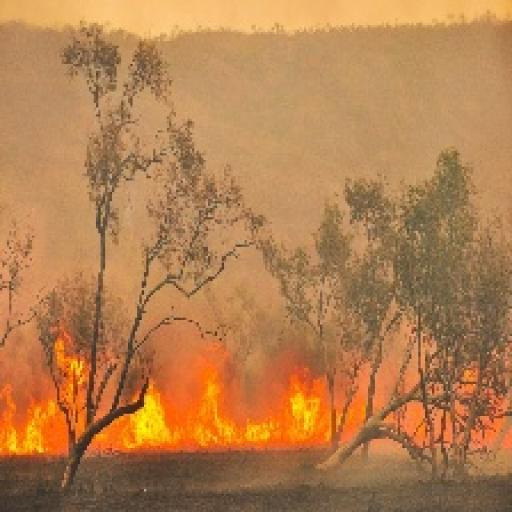fire and smoke: (101, 368, 325, 448), (0, 386, 62, 453)
